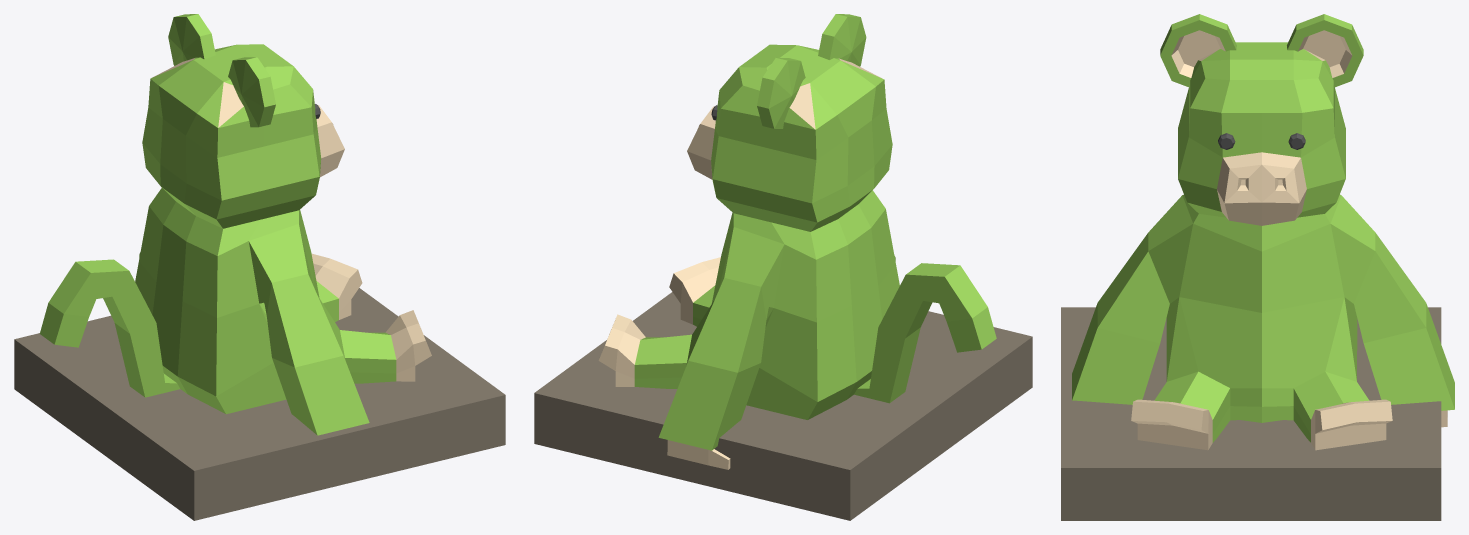
The model's file is BigFoot.gltf.
3 renders of one model, left to right at view 1: azimuth 30°, elevation 25°; view 2: azimuth 150°, elevation 25°; view 3: azimuth 270°, elevation 25°, orthographic. The views are drawn at different scales.
Visible parts, largest first — view 1: buffer-0-mesh-0 (×2), Box; view 2: buffer-0-mesh-0 (×2), Box; view 3: buffer-0-mesh-0 (×3), Box.
Boxes of the visible parts, x1=… form: buffer-0-mesh-0 (×2): x1=39, y1=14, x2=431, y2=435; Box: x1=14, y1=288, x2=505, y2=520; buffer-0-mesh-0 (×2): x1=598, y1=14, x2=996, y2=469; Box: x1=534, y1=292, x2=1032, y2=520; buffer-0-mesh-0 (×3): x1=1072, y1=14, x2=1454, y2=450; Box: x1=1061, y1=307, x2=1441, y2=520.
Size of the model in its own units: 1.17 by 1.18 by 1.04.
